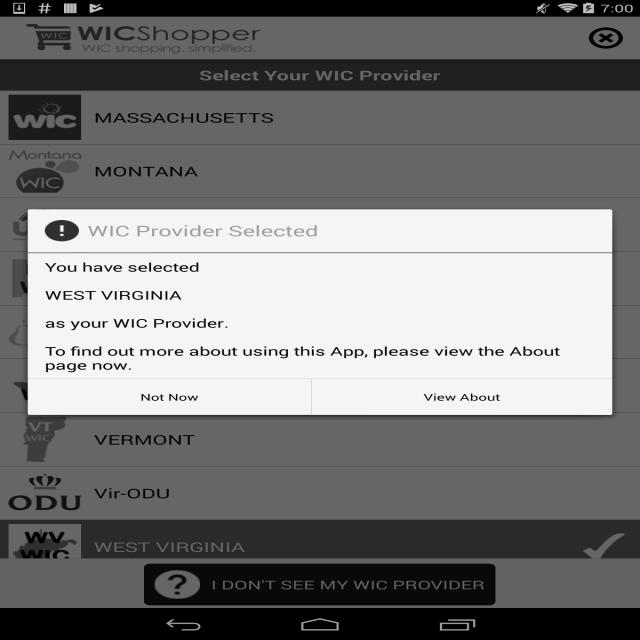Button: (139, 560, 502, 608)
ImageButton: (585, 23, 627, 49)
TextView: (38, 344, 563, 372), (78, 26, 262, 55), (83, 220, 320, 240), (195, 68, 450, 83), (37, 315, 226, 332), (96, 109, 274, 126), (40, 259, 211, 276), (94, 540, 246, 556), (42, 287, 189, 303), (90, 163, 205, 181), (91, 484, 173, 500), (418, 390, 506, 404), (136, 388, 204, 404)
